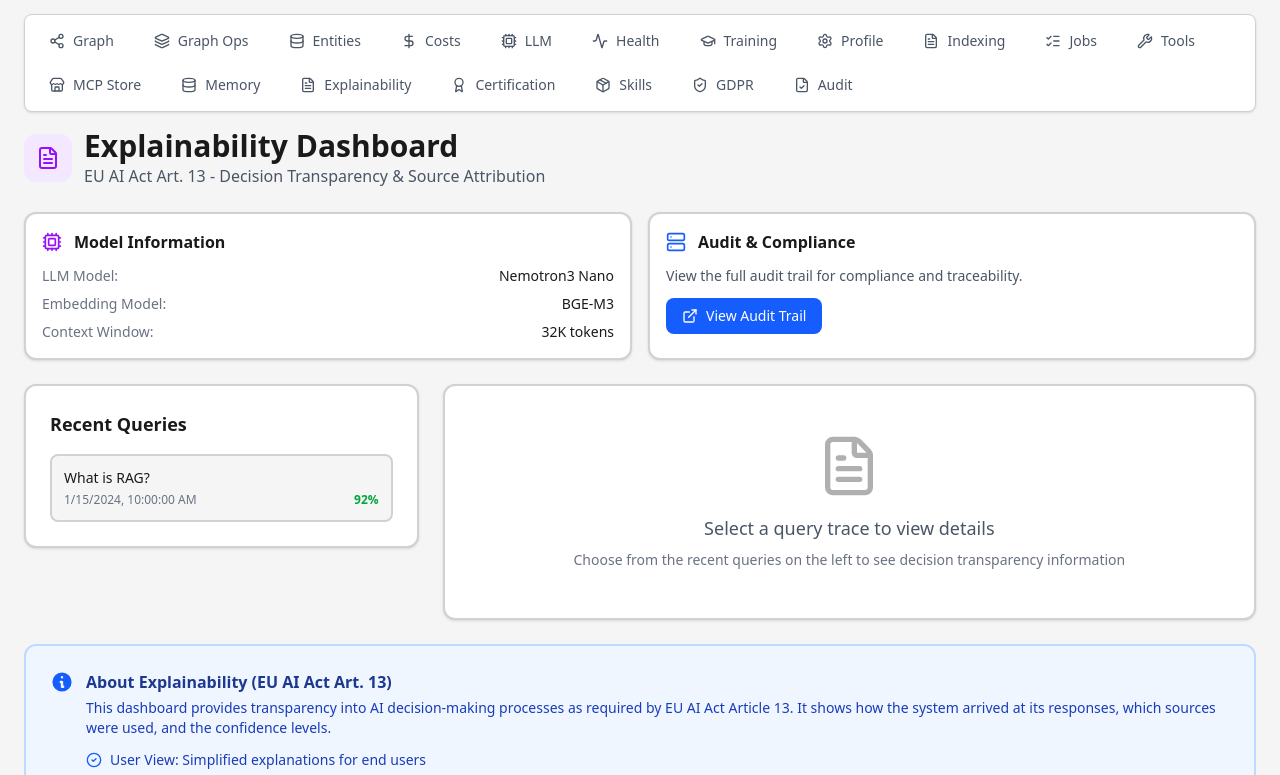
Scenario: ExplainabilityPage › should display decision flow stages
Check: the text "What is RAG?" is shown, box [64,468,150,487]
Click the button with test id "trace-item-trace-123" at (107, 478), box [50,454,393,522]
(page scrolled)
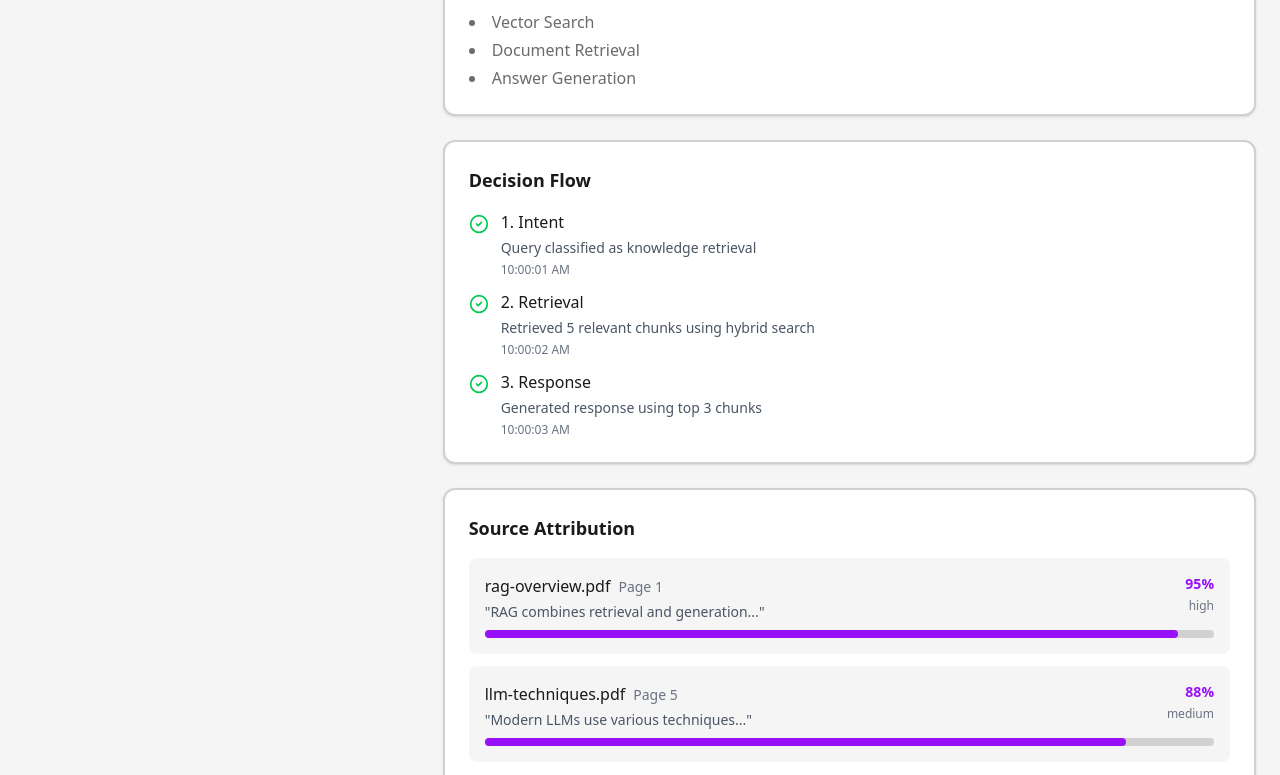
Check: the heading "Decision Flow" is shown, box [469,168,591,192]
Check: the text "1. Intent" is shown, box [501,211,564,233]
Check: the text "Query classified as knowledge retrieval" is shown, box [501,238,756,257]
